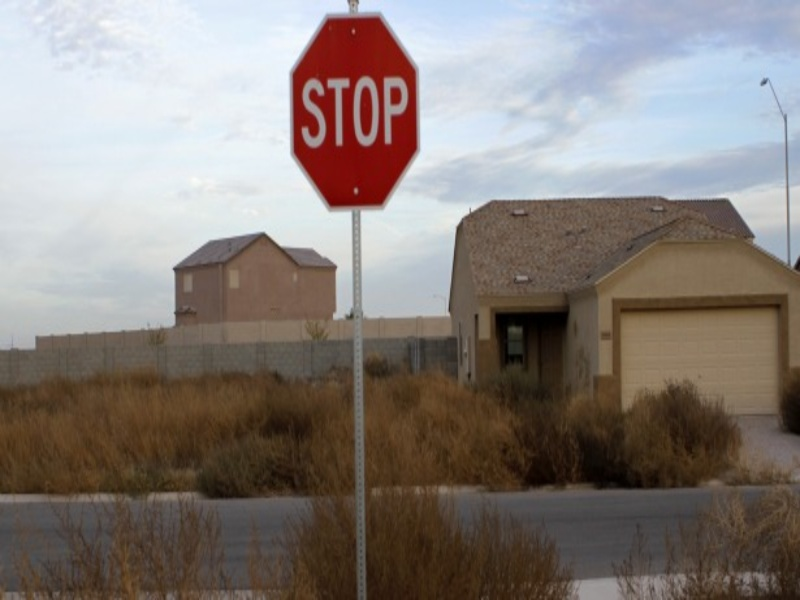stop sign: (284, 8, 422, 217)
